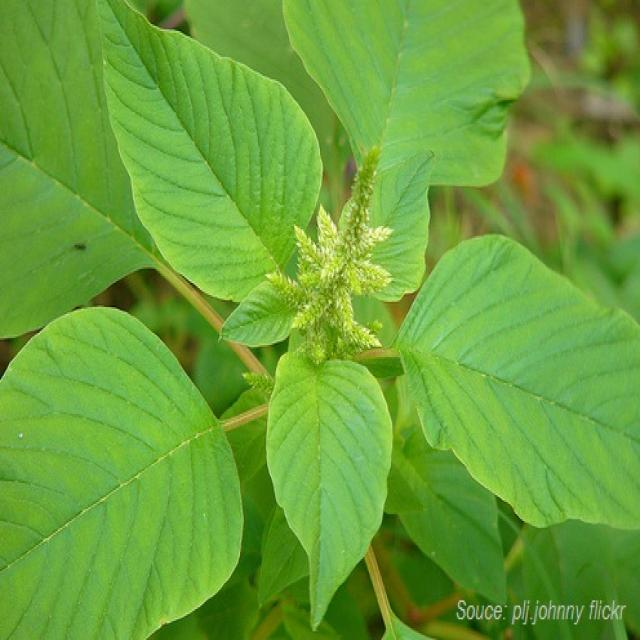Medicinal-Arive Dantu: (1, 3, 640, 602)
